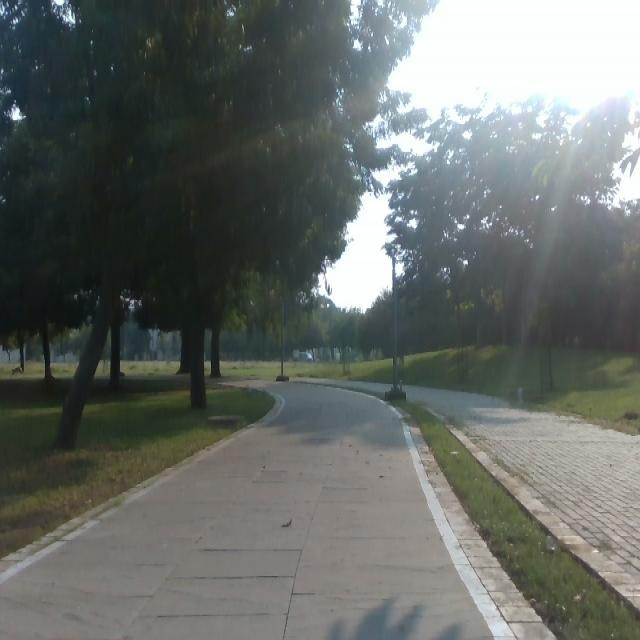lane: (4, 382, 493, 637)
